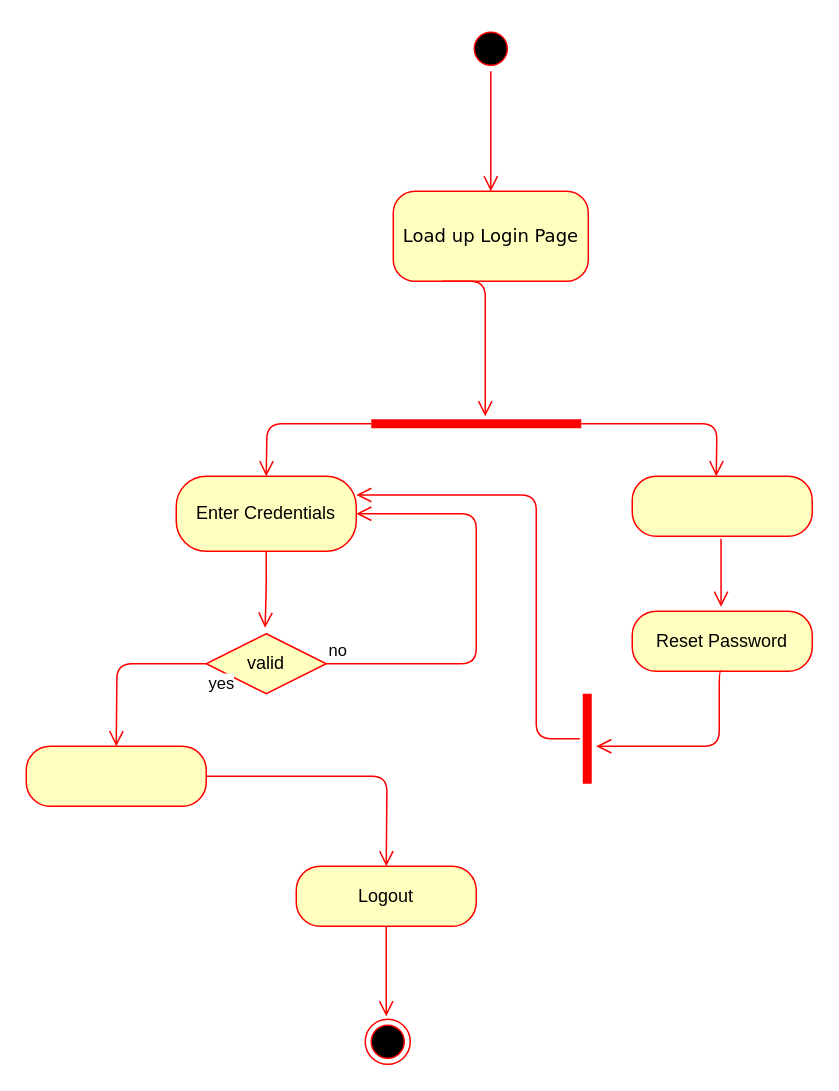
This 839x1091 diagram has some shape labels left out. Each missing label, with the centre of its shape:
Forgot Password: (721,505)
Login Success: (115,775)
